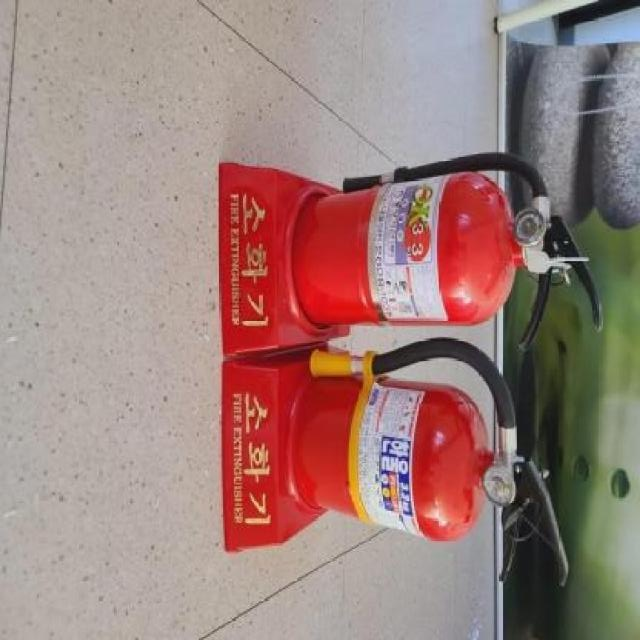fire extinguisher: (294, 337, 571, 589), (292, 153, 605, 353)
